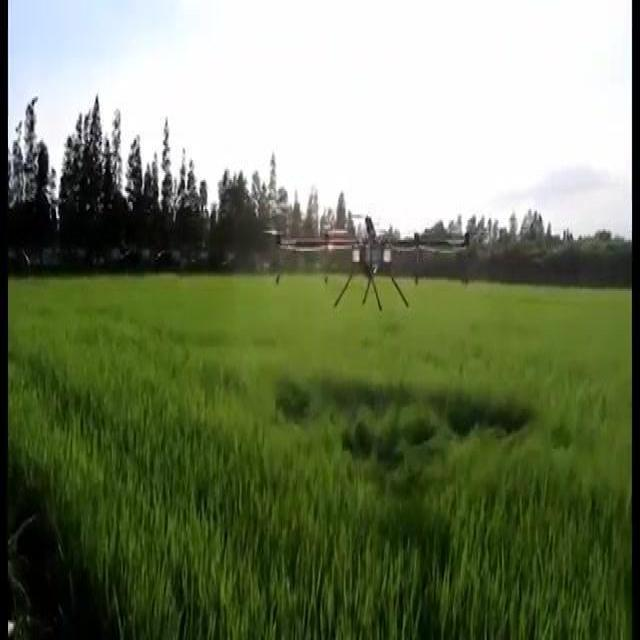UAV: (271, 209, 474, 309)
